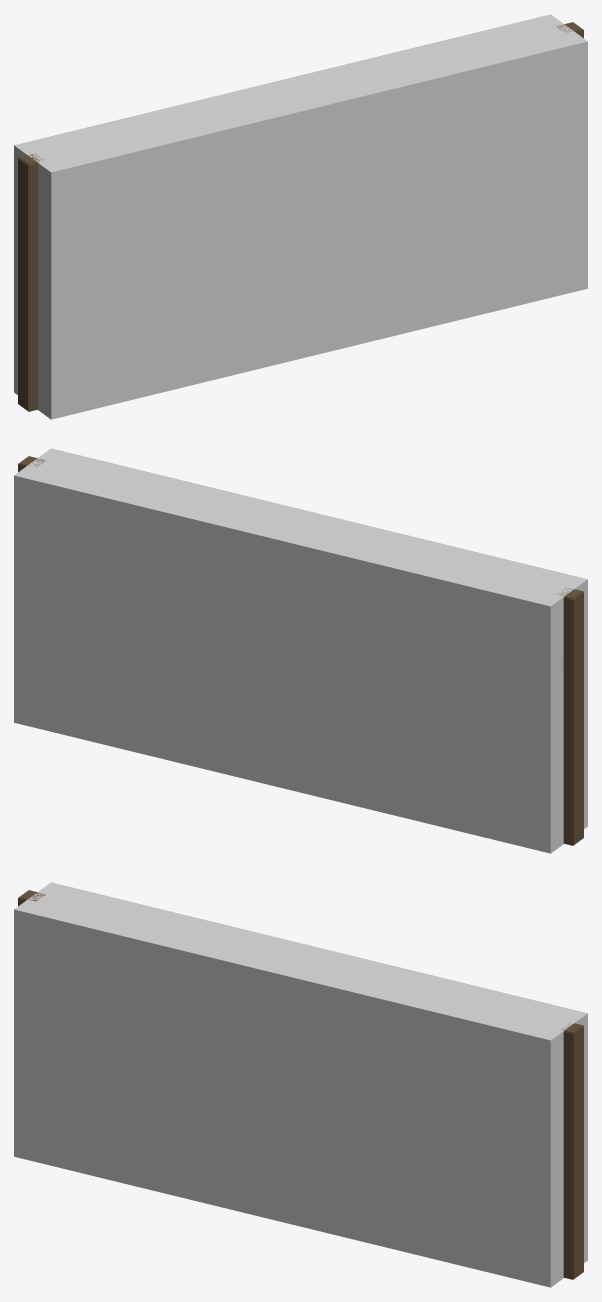
The model's file is fence_low_picket.glb.
The picture shows the model from 3 angles, top to bottom: view 1: azimuth 30°, elevation 25°; view 2: azimuth 150°, elevation 25°; view 3: azimuth 330°, elevation 25°; orthographic projection.
Visible parts, largest first — view 1: fence_low_picket-col, ok_mesh; view 2: fence_low_picket-col, ok_mesh; view 3: fence_low_picket-col, ok_mesh.
Boxes of the visible parts, x1=… form: fence_low_picket-col: x1=14, y1=14, x2=587, y2=419; ok_mesh: x1=18, y1=22, x2=583, y2=411; fence_low_picket-col: x1=14, y1=448, x2=587, y2=853; ok_mesh: x1=18, y1=456, x2=583, y2=845; fence_low_picket-col: x1=14, y1=882, x2=587, y2=1287; ok_mesh: x1=18, y1=890, x2=583, y2=1279.
Size of the model in its own units: 2.59 by 1.1 by 0.3.
